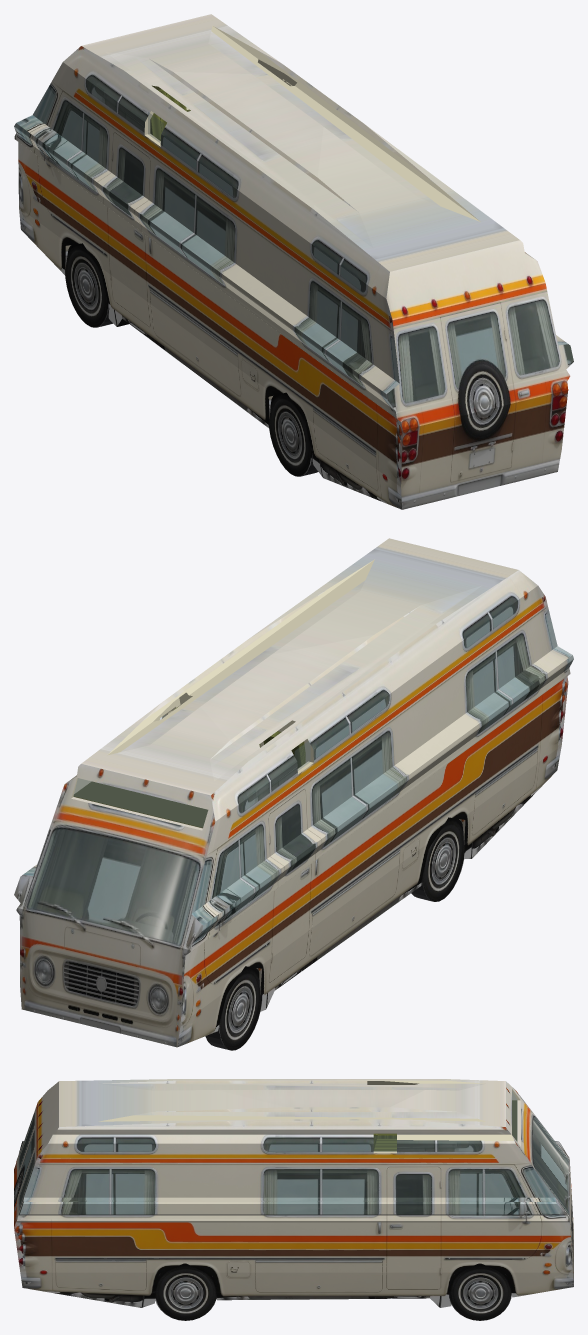
File: motorhome.glb
3 renders of one model, top to bottom at view 1: azimuth 30°, elevation 25°; view 2: azimuth 150°, elevation 25°; view 3: azimuth 270°, elevation 25°, orthographic. The views are drawn at different scales.
Parts seen in each view (by area): view 1: motorhome, wheel_BL, wheel_FL; view 2: motorhome, motorhome_cabin, wheel_FL, wheel_BL; view 3: motorhome, wheel_BR, wheel_FR, motorhome_cabin.
Part boxes in pixels (<box>): motorhome: <box>14,14,573,509</box>; wheel_BL: <box>268,392,318,476</box>; wheel_FL: <box>65,243,112,327</box>; motorhome: <box>14,538,573,1047</box>; motorhome_cabin: <box>73,707,310,828</box>; wheel_FL: <box>205,966,262,1050</box>; wheel_BL: <box>411,817,465,901</box>; motorhome: <box>14,1079,573,1307</box>; wheel_BR: <box>155,1263,216,1320</box>; wheel_FR: <box>450,1263,511,1320</box>; motorhome_cabin: <box>373,1091,517,1151</box>.
Size of the model in its own units: 2.49 by 3.46 by 8.97.
Materials: 11 (4 with a texture image).
